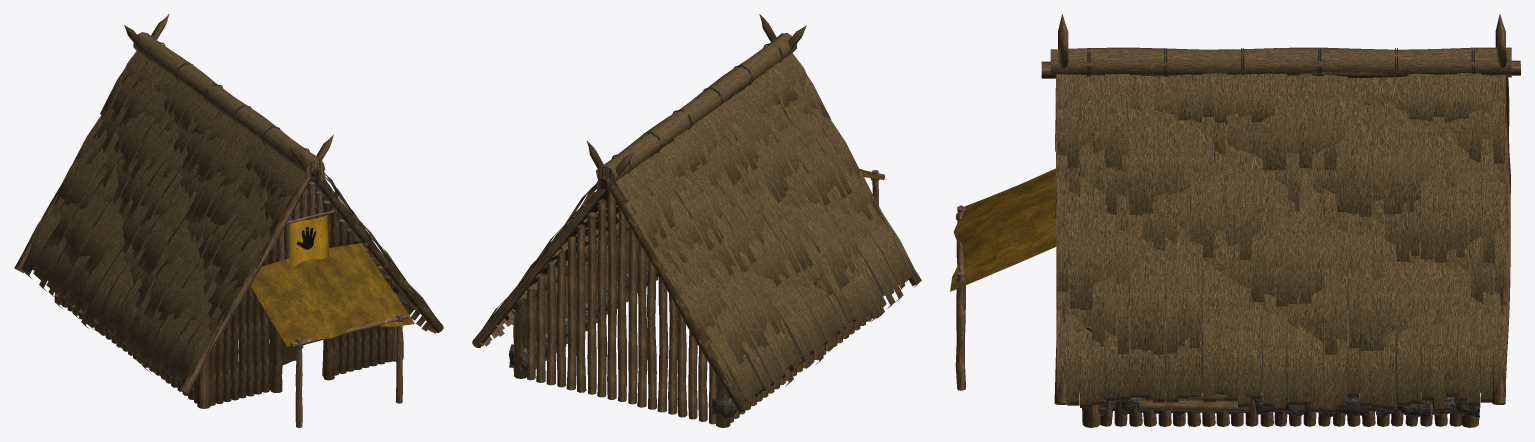
Rendered from SM_Bld_Player_House.gltf.
The picture shows the model from 3 angles, left to right: view 1: azimuth 30°, elevation 25°; view 2: azimuth 150°, elevation 25°; view 3: azimuth 270°, elevation 25°; orthographic projection. The views are drawn at different scales.
Parts seen in each view (by area): view 1: SM_Bld_Player_House; view 2: SM_Bld_Player_House; view 3: SM_Bld_Player_House.
Part boxes in pixels (x1,y1,x2,y2): SM_Bld_Player_House: (14,14,443,427); SM_Bld_Player_House: (472,14,921,427); SM_Bld_Player_House: (950,14,1520,427).
Size of the model in its own units: 6.85 by 6.22 by 9.65.
Materials: 10 (9 with a texture image).
